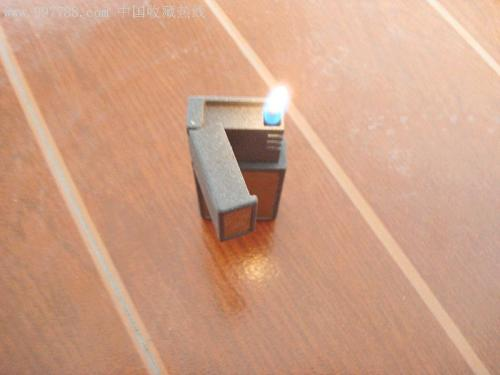fire: (252, 74, 299, 139)
